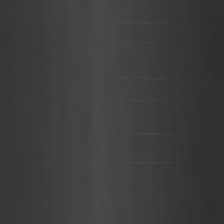waist_folding: (121, 24, 185, 189)
